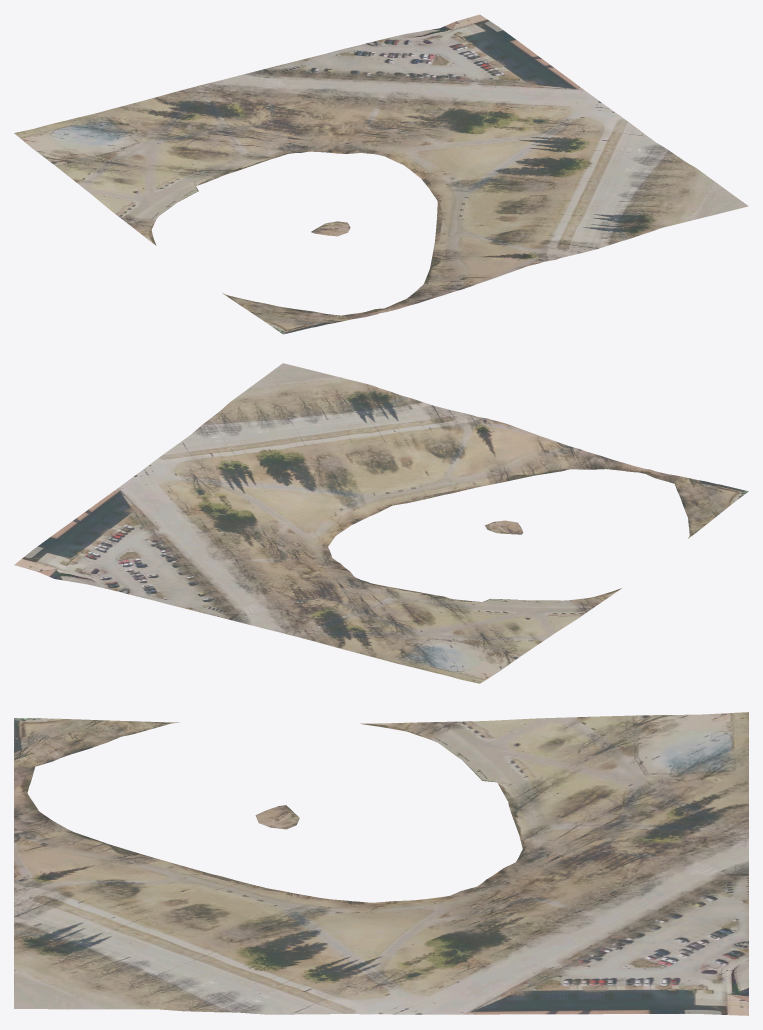
File: CM_Terrain_24488410_6820818.fbx
3 views of the same model, one above another, from view 1: azimuth 30°, elevation 25°; view 2: azimuth 150°, elevation 25°; view 3: azimuth 270°, elevation 25° (orthographic). The views are drawn at different scales.
Visible parts, largest first — view 1: CM_Terrain_24488410_6820818_LOD0; view 2: CM_Terrain_24488410_6820818_LOD0; view 3: CM_Terrain_24488410_6820818_LOD0.
Boxes of the visible parts, <box> form: CM_Terrain_24488410_6820818_LOD0: <box>14,14,748,334</box>; CM_Terrain_24488410_6820818_LOD0: <box>14,363,748,683</box>; CM_Terrain_24488410_6820818_LOD0: <box>14,712,748,1015</box>.
Size of what is drawn, in the model's own units: 205 by 7.91 by 205.
